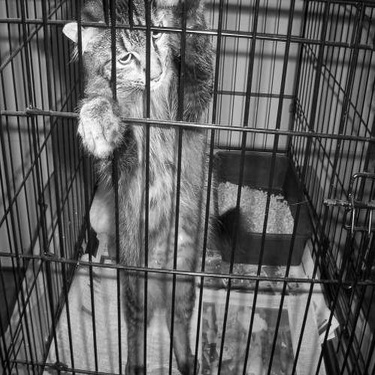cat: (55, 3, 215, 373)
